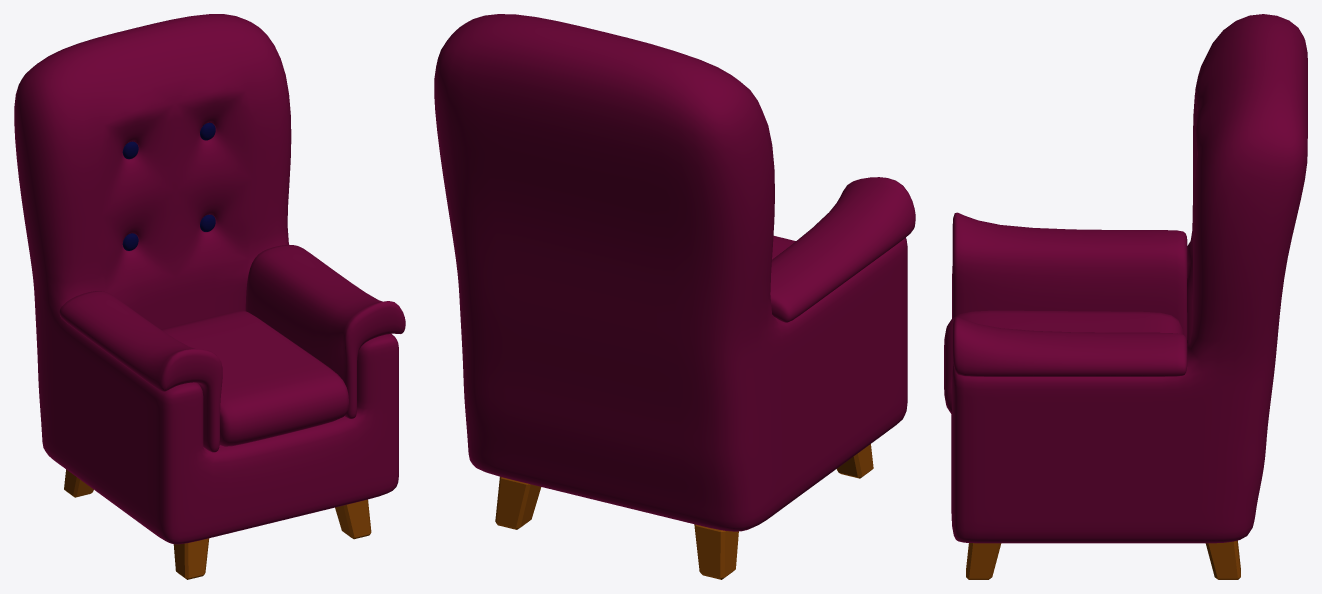
Rendered from sofa chair.fbx.
The picture shows the model from 3 angles, left to right: view 1: azimuth 30°, elevation 25°; view 2: azimuth 150°, elevation 25°; view 3: azimuth 270°, elevation 25°; orthographic projection. The views are drawn at different scales.
Visible parts, largest first — view 1: Plane; view 2: Plane; view 3: Plane.
Boxes of the visible parts, x1=… form: Plane: x1=14, y1=14, x2=405, y2=579; Plane: x1=434, y1=14, x2=915, y2=579; Plane: x1=944, y1=14, x2=1307, y2=579.
Size of the model in its own units: 216 by 346 by 239.
